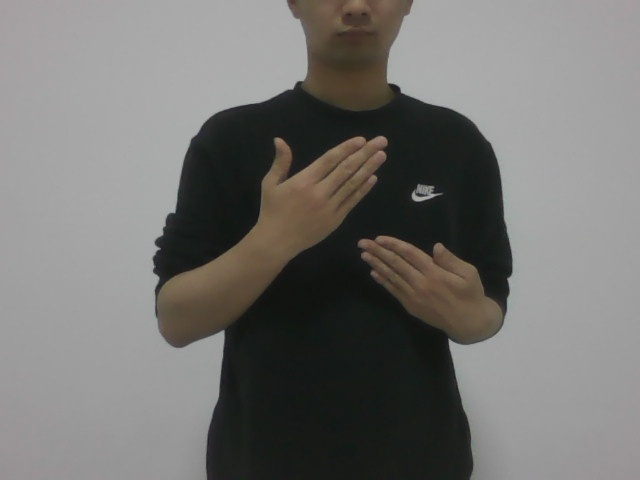tea: (229, 123, 485, 338)
